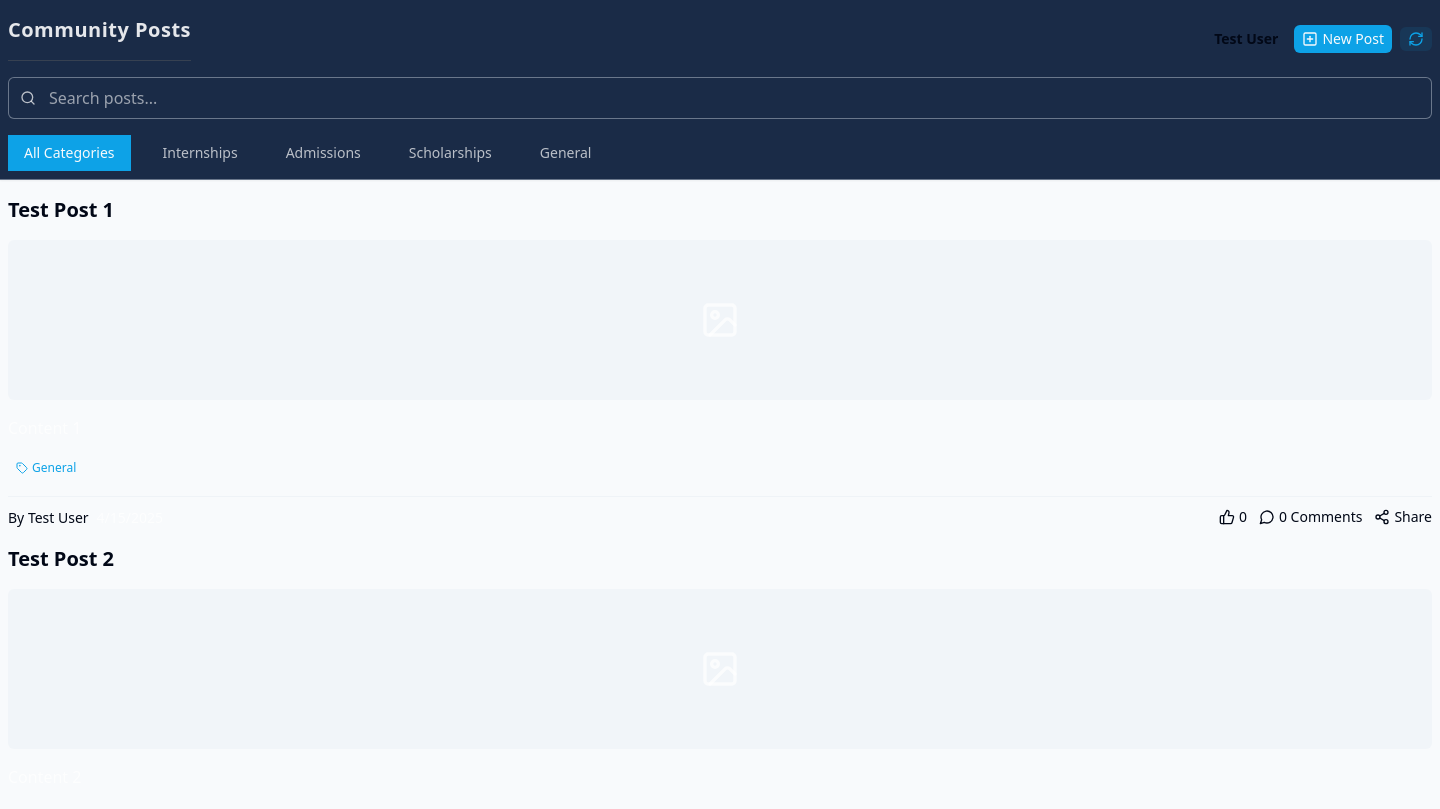
Scenario: Posts › filters posts by search query
The width and height of the screenshot is (1440, 809).
Check: the heading "Test Post 1" is shown, box [8,196,114,223]
# Enter search query
Type "Test Post 1" into the field with placeholder "Search posts...". click: (720, 98)
box: [8,77,1432,119]
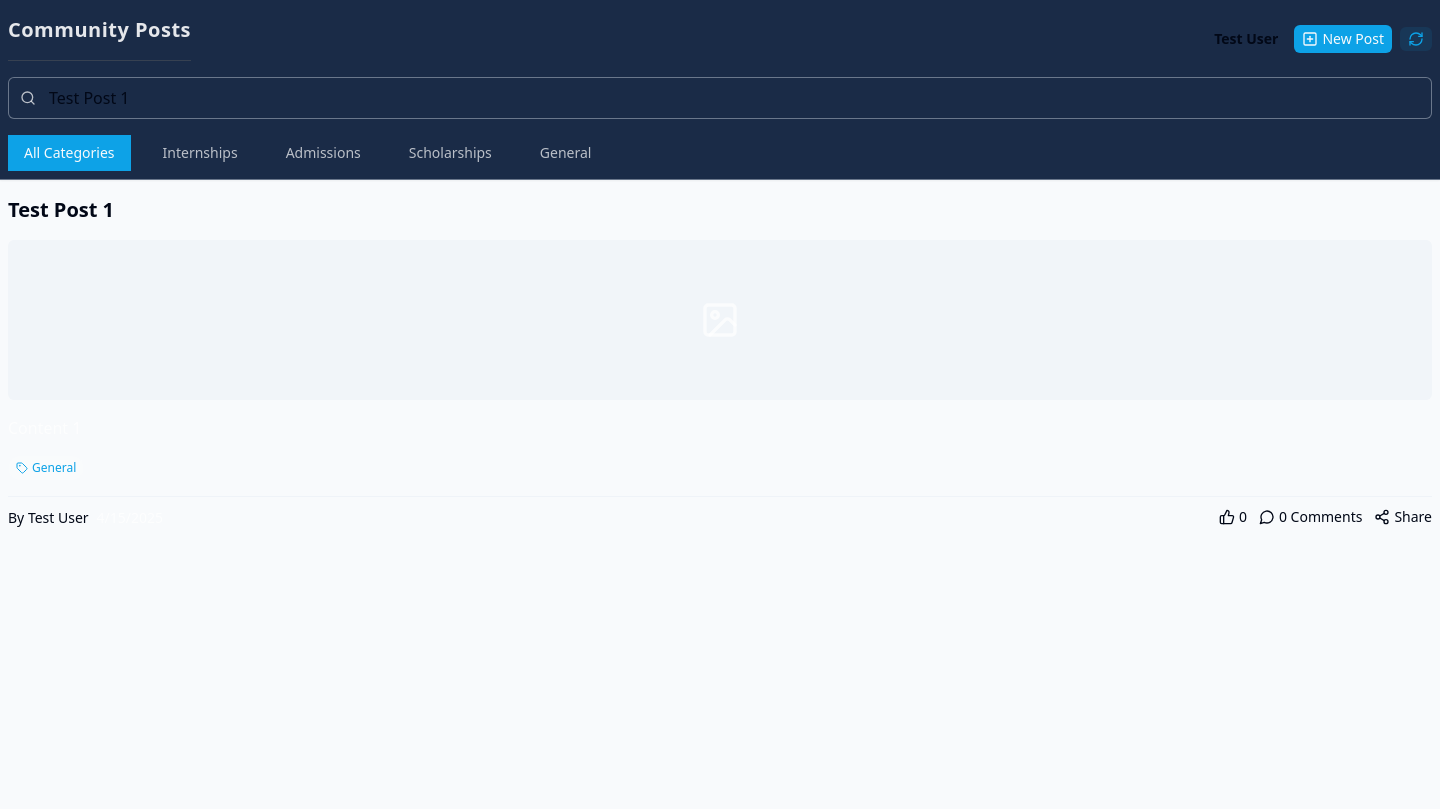
Check: the heading "Test Post 1" is shown, box [8,196,114,223]
Check: the heading "Test Post 2" is gone
